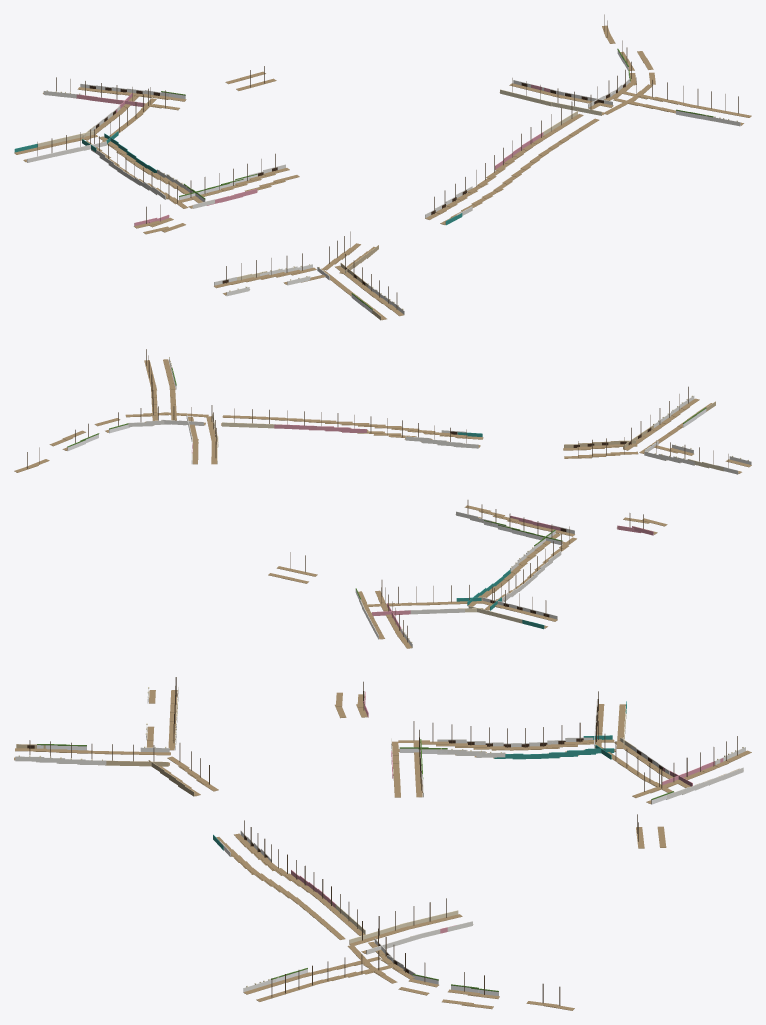
File: noord_res_-26_-23.glb
3 views of the same model, one above another, from view 1: azimuth 30°, elevation 25°; view 2: azimuth 150°, elevation 25°; view 3: azimuth 270°, elevation 25° (orthographic). The views are drawn at different scales.
Parts seen in each view (by area): view 1: noord_res_-26_-23_lod0; view 2: noord_res_-26_-23_lod0; view 3: noord_res_-26_-23_lod0.
Boxes of the visible parts, left/top/right/bottom form: noord_res_-26_-23_lod0: left=14, top=14, right=751, bottom=320; noord_res_-26_-23_lod0: left=14, top=349, right=751, bottom=648; noord_res_-26_-23_lod0: left=14, top=677, right=751, bottom=1010.
Size of what is drawn, in the model's own units: 283 by 18.66 by 279.
